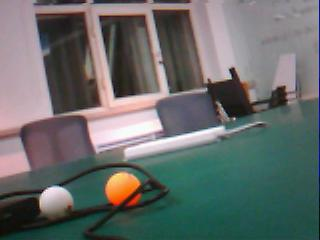oball: (105, 173, 141, 207)
